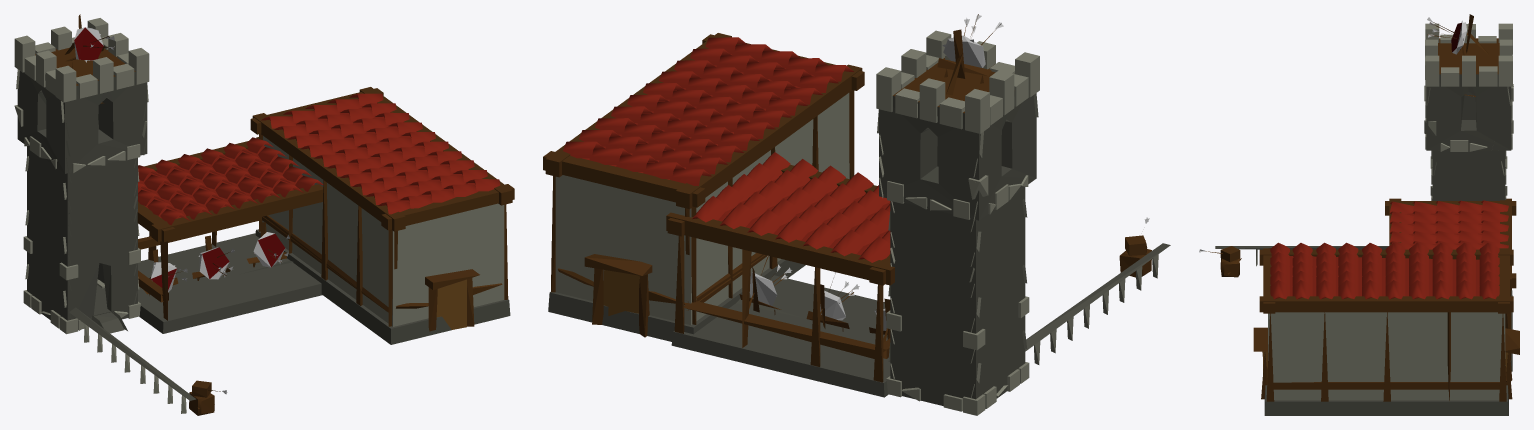
Rendered from Archery_SecondAge_Level2.fbx.
3 renders of one model, left to right at view 1: azimuth 30°, elevation 25°; view 2: azimuth 150°, elevation 25°; view 3: azimuth 270°, elevation 25°, orthographic. The views are drawn at different scales.
Parts seen in each view (by area): view 1: High_Archery_SecondAge_Level2, Low_Archery_SecondAge_Level2; view 2: High_Archery_SecondAge_Level2; view 3: High_Archery_SecondAge_Level2, Low_Archery_SecondAge_Level2.
Part boxes in pixels (left/top/right/bottom): High_Archery_SecondAge_Level2: left=14, top=14, right=514, bottom=415; Low_Archery_SecondAge_Level2: left=76, top=30, right=376, bottom=408; High_Archery_SecondAge_Level2: left=543, top=14, right=1170, bottom=415; High_Archery_SecondAge_Level2: left=1199, top=14, right=1519, bottom=415; Low_Archery_SecondAge_Level2: left=1220, top=21, right=1513, bottom=389.
Bounding box in the file's own units: 193 × 150 × 165.
